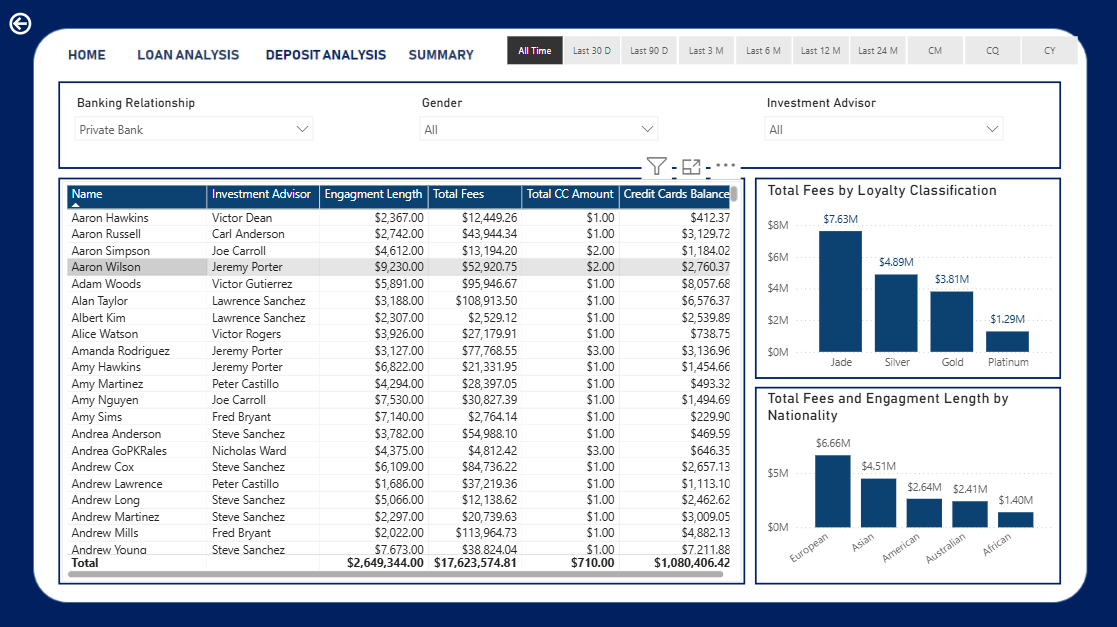

The page's visual inventory and layout, read from the dashboard file:
{"tool":"powerbi","page":{"name":"Drill Through","canvas":[1280,720],"ordinal":4},"visuals":[{"type":"slicer","fields":{"Values":["Banking Relationship.Banking Relationship"]},"box":[77.4,104.4,293.2,76.2],"z":0},{"type":"slicer","fields":{"Values":["Gender.Gender"]},"box":[471.4,104.4,293.2,76.2],"z":1000},{"type":"slicer","fields":{"Values":["Investment Advisor.Investment Advisor"]},"box":[865.4,104.4,293.2,76.2],"z":2000},{"type":"tableEx","fields":{"Values":["Clients - Banking.Name","Investment Advisor.Investment Advisor","DAX Measures.Engagment Length","DAX Measures.Total Fees","DAX Measures.Total CC Amount","DAX Measures.Credit Cards"]},"box":[72.7,207.6,777.5,458.5],"z":3000},{"type":"actionButton","box":[8.2,10.6,41,34],"z":4000},{"type":"clusteredColumnChart","fields":{"Category":["Clients - Banking.Loyalty Classification"],"Y":["DAX Measures.Total Fees"]},"box":[873.6,207.6,336.5,225.1],"z":5000},{"type":"columnChart","fields":{"Category":["Clients - Banking.Nationality"],"Y":["DAX Measures.Total Fees"]},"box":[873.6,444.4,336.5,221.6],"z":6000},{"type":"slicer","fields":{"Values":["Period.Name"]},"box":[555.2,34.6,702.1,46.6],"z":7000},{"type":"actionButton","box":[72.8,44.2,58.5,31],"z":8000},{"type":"actionButton","box":[157.1,44.6,125.5,30.5],"z":9000},{"type":"actionButton","box":[297.9,44.6,151.3,30.5],"z":10000},{"type":"actionButton","box":[471.4,44.6,83.3,37.5],"z":11000}]}

Visuals, with their boxes in screenshot pixels (x1, y1, x2, y2), scaled from the page's 1280x720 canvas onto the 1117x627 screenshot:
slicer - Banking Relationship.Banking Relationship: crop(68, 91, 323, 157)
slicer - Gender.Gender: crop(411, 91, 667, 157)
slicer - Investment Advisor.Investment Advisor: crop(755, 91, 1011, 157)
tableEx - Clients - Banking.Name x Investment Advisor.Investment Advisor: crop(63, 181, 742, 580)
actionButton: crop(7, 9, 43, 39)
clusteredColumnChart - Clients - Banking.Loyalty Classification x DAX Measures.Total Fees: crop(762, 181, 1056, 377)
columnChart - Clients - Banking.Nationality x DAX Measures.Total Fees: crop(762, 387, 1056, 580)
slicer - Period.Name: crop(484, 30, 1097, 71)
actionButton: crop(64, 38, 115, 65)
actionButton: crop(137, 39, 247, 65)
actionButton: crop(260, 39, 392, 65)
actionButton: crop(411, 39, 484, 71)
